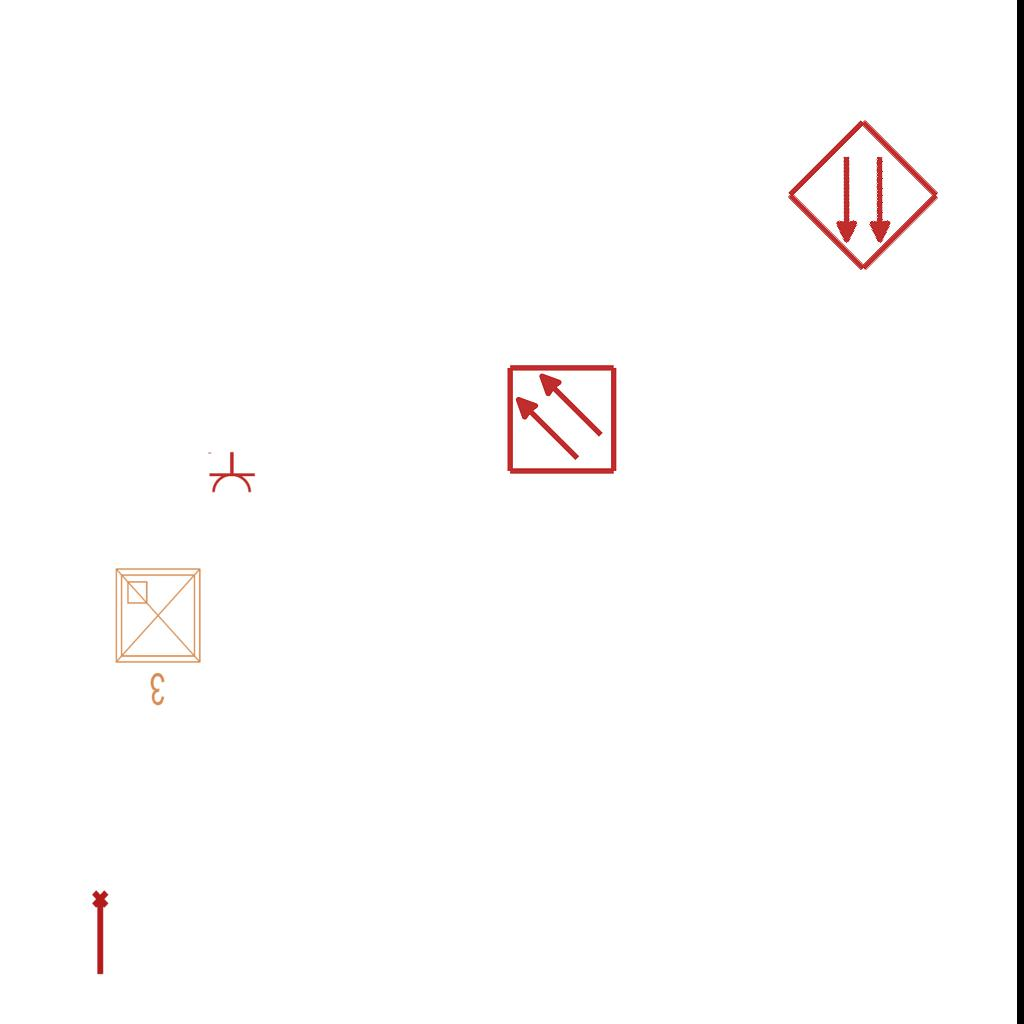ASR_Ansaugoeffnung: (90, 889, 113, 977)
Einbaudownlights_LED_Konferenzraeume: (108, 561, 212, 711)
RMO_Rauchmelder_optischer: (783, 115, 944, 276), (505, 363, 618, 476)
Schukosteckdose_einfach: (206, 451, 256, 494)
